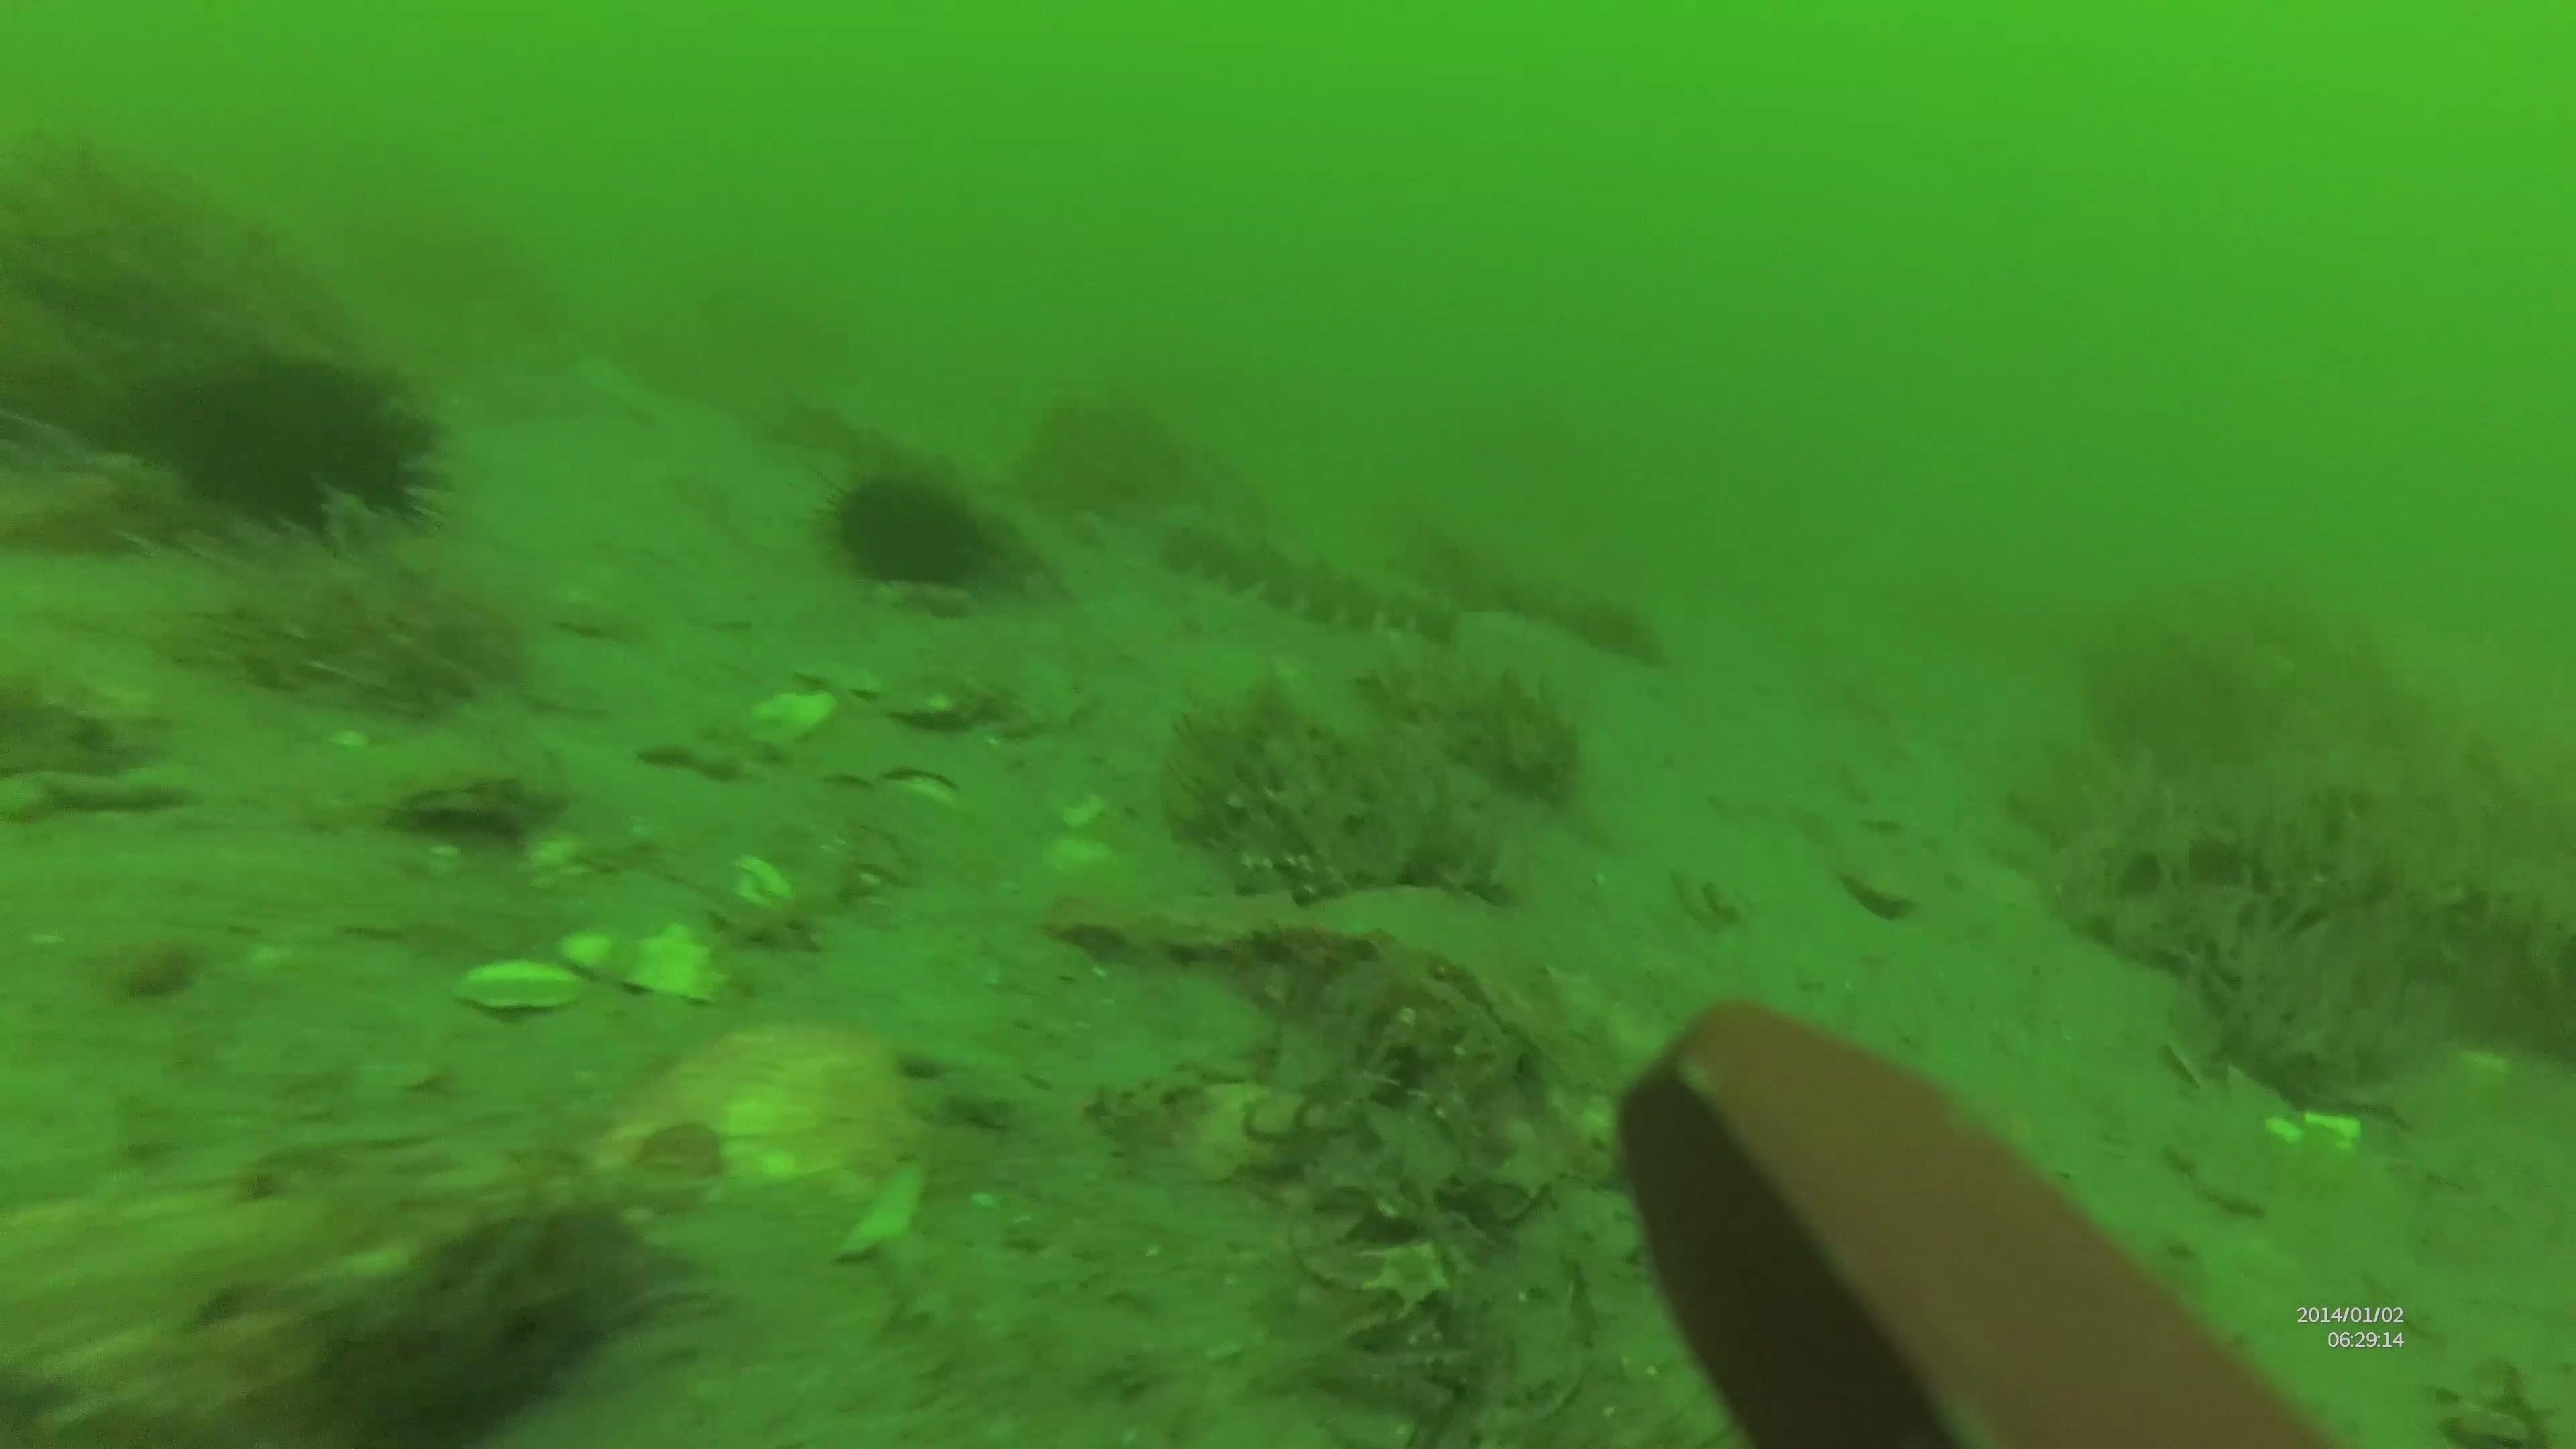echinus: (157, 345, 449, 543), (819, 458, 1005, 600)
holothurian: (1157, 508, 1461, 648)
scallop: (591, 1016, 927, 1272)
